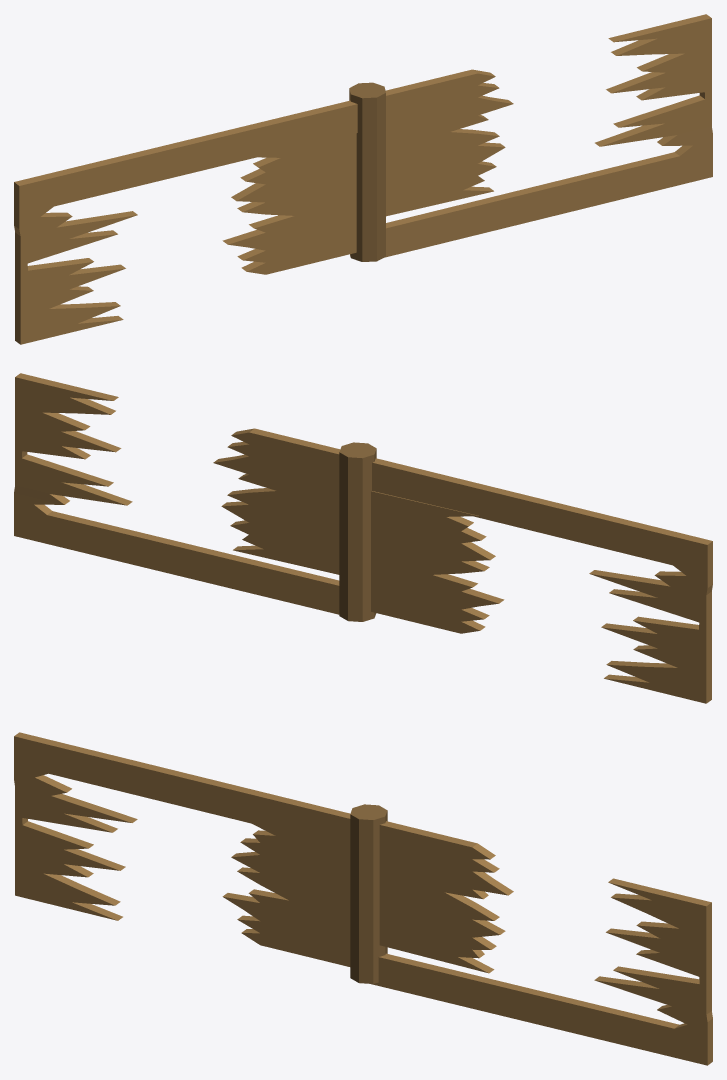
File: RuinedHouseStuff6.fbx
3 renders of one model, top to bottom at view 1: azimuth 30°, elevation 25°; view 2: azimuth 150°, elevation 25°; view 3: azimuth 330°, elevation 25°, orthographic.
Parts seen in each view (by area): view 1: Cylinder.056; view 2: Cylinder.056; view 3: Cylinder.056.
Boxes of the visible parts, x1,y1,x2,y2 form: Cylinder.056: (14, 14, 712, 344); Cylinder.056: (14, 373, 712, 703); Cylinder.056: (14, 732, 712, 1065).
Bounding box in the file's own units: 985 × 227 × 47.25.
